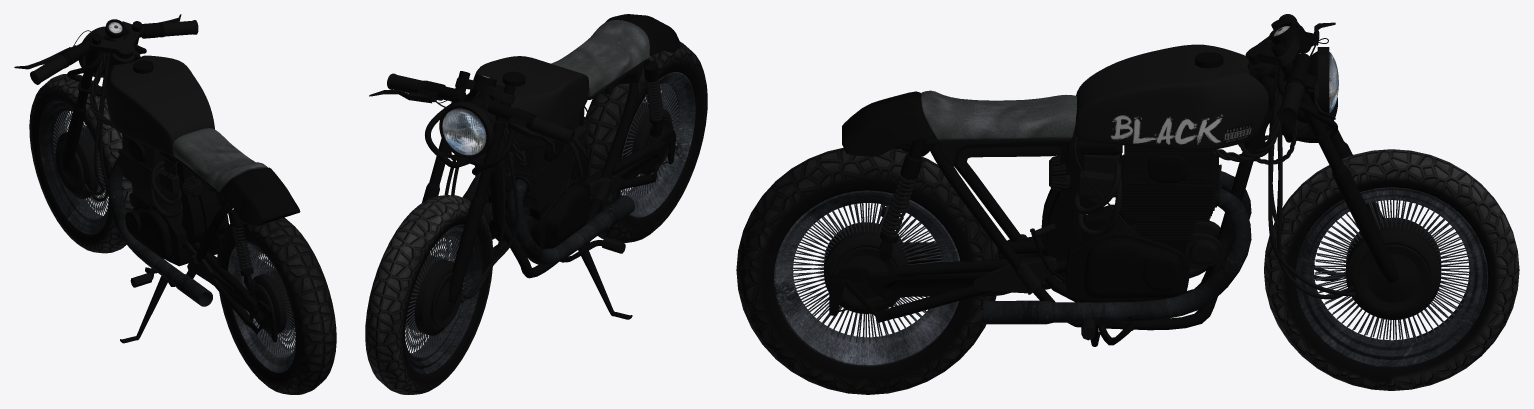
File: cafe-racer.glb
The picture shows the model from 3 angles, left to right: view 1: azimuth 30°, elevation 25°; view 2: azimuth 150°, elevation 25°; view 3: azimuth 270°, elevation 25°; orthographic projection. The views are drawn at different scales.
Visible parts, largest first — view 1: pTorus2, Tank, pTorus4, Seat, Back_Seat, pTorus1, Tank1, pCylinder4, pTorus3, Tank5, pCylinder36, pCylinder11 (+21 smaller); view 2: pTorus4, pTorus2, Tank, Seat, pTorus3, pCylinder4, pCylinder15, pTorus1, pCylinder36, pCylinder38, Tank1, pSphere2 (+23 smaller); view 3: pTorus2, pTorus4, Tank, pTorus1, pTorus3, Tank1, pCylinder4, pCylinder36, Seat, pCylinder38, Back_Seat, pCylinder15 (+19 smaller).
Boxes of the visible parts, box(x1,y1,x2,y2) form: pTorus2: box(217, 217, 336, 394); Tank: box(105, 55, 214, 154); pTorus4: box(29, 74, 133, 253); Seat: box(172, 128, 267, 191); Back_Seat: box(220, 167, 300, 225); pTorus1: box(39, 100, 108, 234); Tank1: box(125, 198, 228, 266); pCylinder4: box(108, 156, 212, 306); pTorus3: box(228, 241, 295, 372); Tank5: box(177, 162, 225, 254); pCylinder36: box(55, 126, 105, 198); pCylinder11: box(249, 270, 294, 333); pTorus4: box(365, 195, 493, 394); pTorus2: box(585, 41, 707, 242); Tank: box(470, 56, 588, 151); Seat: box(551, 20, 649, 96); pTorus3: box(619, 72, 695, 218); pCylinder4: box(462, 171, 634, 265); pCylinder15: box(422, 71, 515, 302); pTorus1: box(405, 224, 482, 374); pCylinder36: box(405, 255, 462, 335); pCylinder38: box(488, 82, 638, 278); Tank1: box(484, 177, 589, 249); pSphere2: box(442, 108, 486, 155); pTorus2: box(736, 148, 998, 394); pTorus4: box(1264, 149, 1519, 390); Tank: box(1075, 44, 1268, 150); pTorus1: box(1295, 187, 1488, 367); pTorus3: box(774, 190, 960, 366); Tank1: box(1066, 204, 1189, 302); pCylinder4: box(983, 171, 1251, 324); pCylinder36: box(1346, 217, 1441, 319); Seat: box(921, 90, 1076, 140); pCylinder38: box(930, 124, 1262, 330); Back_Seat: box(842, 91, 934, 156); pCylinder15: box(1271, 19, 1398, 283).
Size of the model in its own units: 1.05 by 1.56 by 3.09.
10 materials, 7 textured.
